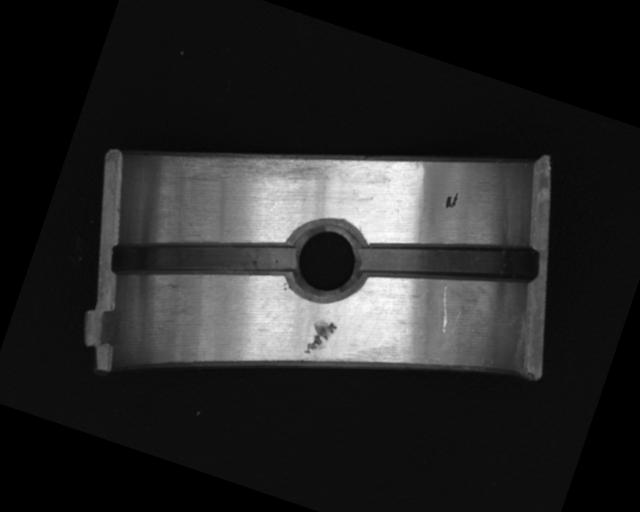blot: (442, 189, 461, 211)
bruise: (301, 315, 338, 361)
gap: (108, 194, 298, 325), (357, 200, 541, 323)
hole: (278, 209, 374, 310)
nick: (429, 283, 462, 335)
scratch: (169, 108, 340, 227)
